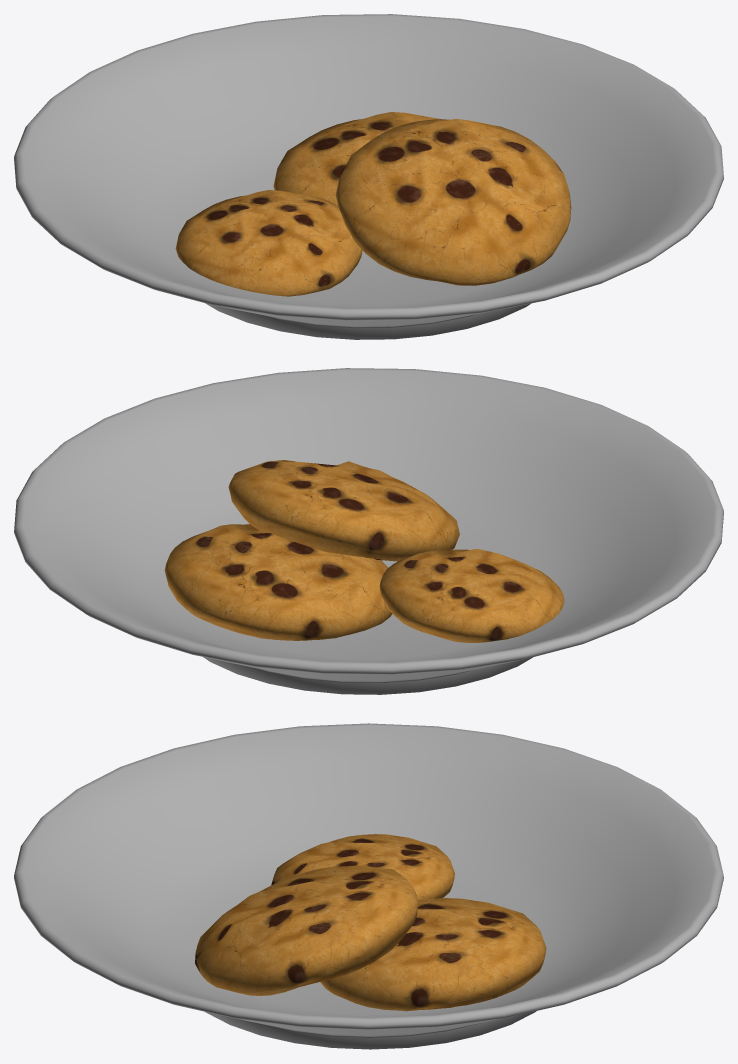
File: cookie_in_plate.fbx
The picture shows the model from 3 angles, top to bottom: view 1: azimuth 30°, elevation 25°; view 2: azimuth 150°, elevation 25°; view 3: azimuth 270°, elevation 25°; orthographic projection.
Parts seen in each view (by area): view 1: polySurface2, Chocolate_Chip_Cookie1, Chocolate_Chip_Cookie2, Chocolate_Chip_Cookie; view 2: polySurface2, Chocolate_Chip_Cookie, Chocolate_Chip_Cookie1, Chocolate_Chip_Cookie2; view 3: polySurface2, Chocolate_Chip_Cookie1, Chocolate_Chip_Cookie, Chocolate_Chip_Cookie2.
Boxes of the visible parts, x1,y1,x2,y2 form: polySurface2: [14, 14, 723, 339]; Chocolate_Chip_Cookie1: [335, 118, 571, 285]; Chocolate_Chip_Cookie2: [175, 190, 362, 296]; Chocolate_Chip_Cookie: [273, 112, 440, 205]; polySurface2: [14, 368, 723, 694]; Chocolate_Chip_Cookie: [164, 524, 392, 640]; Chocolate_Chip_Cookie1: [228, 460, 459, 561]; Chocolate_Chip_Cookie2: [379, 549, 564, 642]; polySurface2: [14, 723, 723, 1049]; Chocolate_Chip_Cookie1: [195, 865, 418, 995]; Chocolate_Chip_Cookie: [320, 898, 546, 1011]; Chocolate_Chip_Cookie2: [271, 834, 454, 900].
Size of the model in its own units: 20.82 by 3.6 by 20.82.
